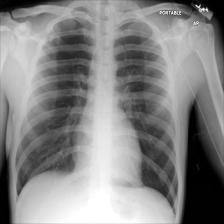normal: (11, 14, 181, 219)
